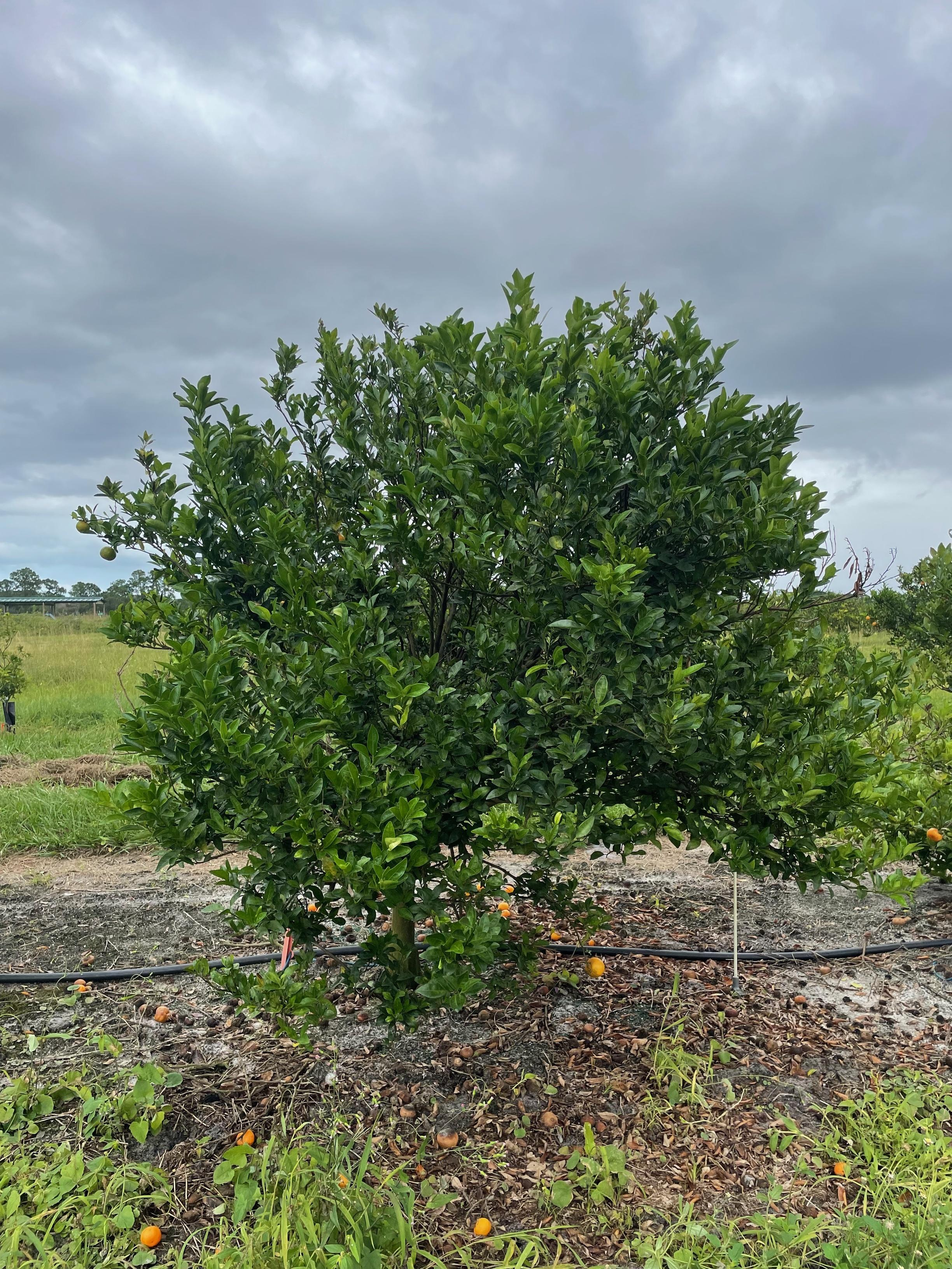fruit_on_ground: (582, 955, 607, 980), (924, 824, 945, 844), (98, 543, 119, 563), (74, 517, 92, 535)
fruit_on_tree: (137, 1222, 164, 1252), (435, 1127, 461, 1150), (831, 1156, 855, 1179), (471, 1214, 494, 1238), (233, 1126, 257, 1148), (537, 1108, 561, 1129), (397, 1103, 420, 1121), (333, 1170, 351, 1190), (153, 1010, 169, 1024), (155, 1003, 171, 1016), (549, 929, 563, 942), (792, 993, 807, 1005), (503, 883, 516, 896), (305, 902, 319, 914), (496, 900, 510, 912), (72, 977, 87, 987), (415, 932, 429, 942)
